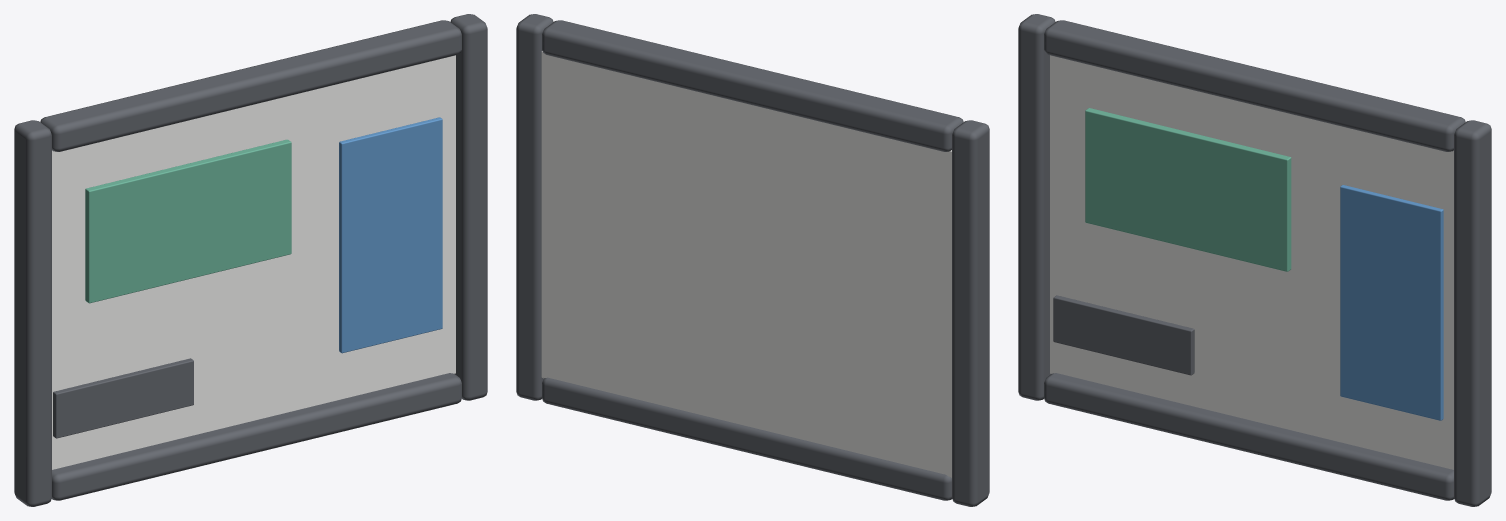
3 renders of one model, left to right at view 1: azimuth 30°, elevation 25°; view 2: azimuth 150°, elevation 25°; view 3: azimuth 330°, elevation 25°, orthographic.
Parts seen in each view (by area): view 1: framed-canvas-cool; view 2: framed-canvas-cool; view 3: framed-canvas-cool.
Part boxes in pixels (x1,y1,x2,y2): framed-canvas-cool: [14, 14, 487, 506]; framed-canvas-cool: [516, 14, 989, 506]; framed-canvas-cool: [1018, 14, 1491, 506].
Bounding box in the file's own units: 0.9 × 0.7 × 0.06.
